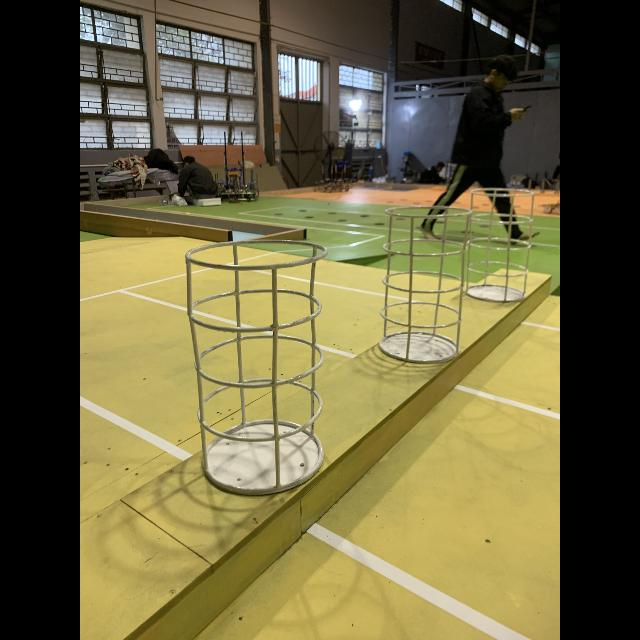S: (184, 239, 330, 496), (378, 206, 474, 368), (466, 188, 534, 304)
